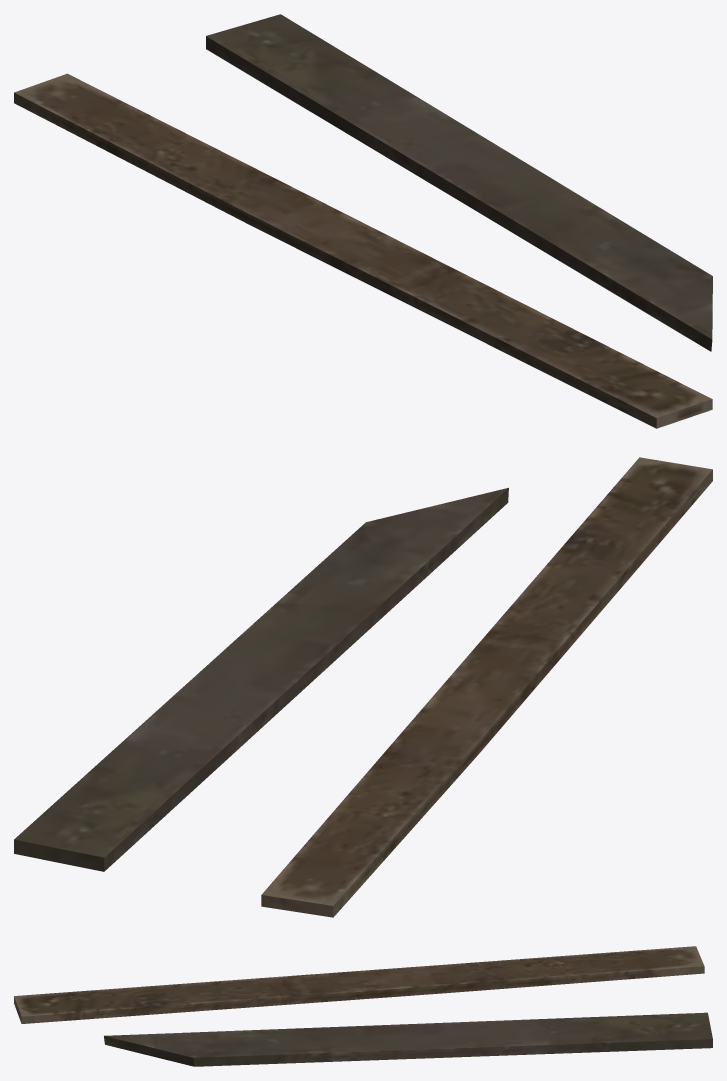
Rendered from floor.triangle.frontier_detail.glb.
3 renders of one model, top to bottom at view 1: azimuth 30°, elevation 25°; view 2: azimuth 150°, elevation 25°; view 3: azimuth 270°, elevation 25°, orthographic. The views are drawn at different scales.
Visible parts, largest first — view 1: floor.triangle_a_detail_LOD0; view 2: floor.triangle_a_detail_LOD0; view 3: floor.triangle_a_detail_LOD0.
Boxes of the visible parts, x1,y1,x2,y2 form: floor.triangle_a_detail_LOD0: (14,14,712,428); floor.triangle_a_detail_LOD0: (14,457,712,917); floor.triangle_a_detail_LOD0: (14,946,712,1066).
Size of the model in its own units: 0.9424 by 0.0353 by 2.47.
Materials: 1 (1 with a texture image).
